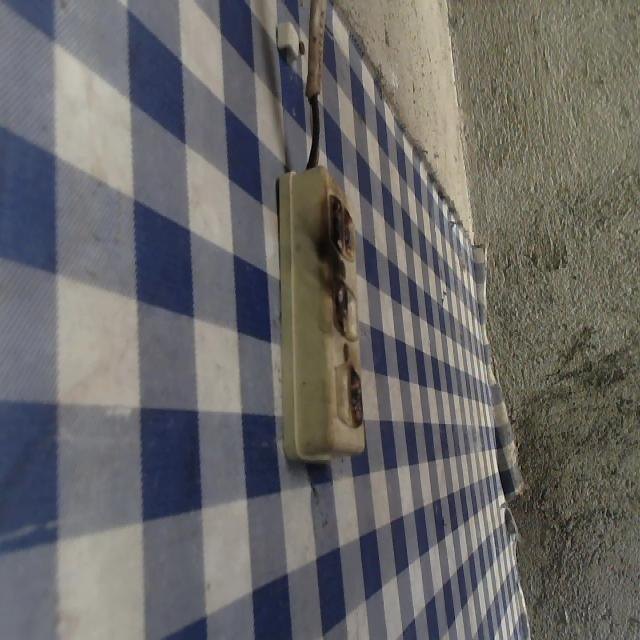-: (319, 185, 363, 267), (344, 357, 373, 436), (326, 268, 350, 339)
